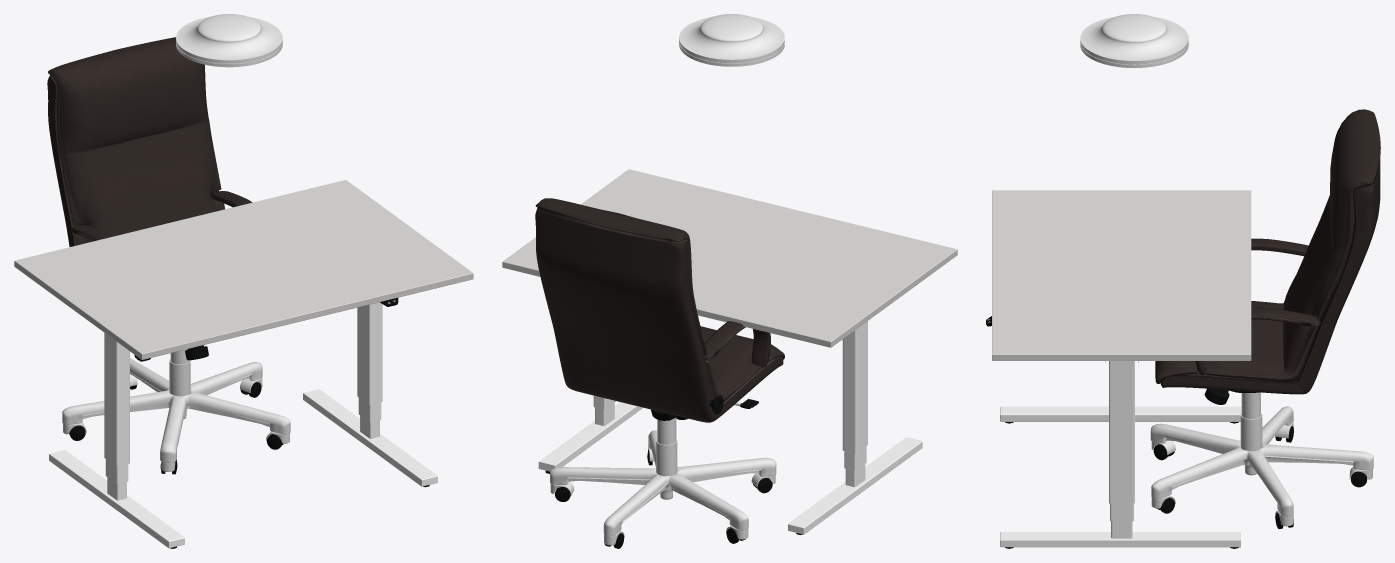
Rendered from Komposition.glb.
The picture shows the model from 3 angles, left to right: view 1: azimuth 30°, elevation 25°; view 2: azimuth 150°, elevation 25°; view 3: azimuth 270°, elevation 25°; orthographic projection. The views are drawn at different scales.
Bounding box in the file's own units: 1.2 × 1.55 × 1.22.
Materials: 10 (5 with a texture image).
